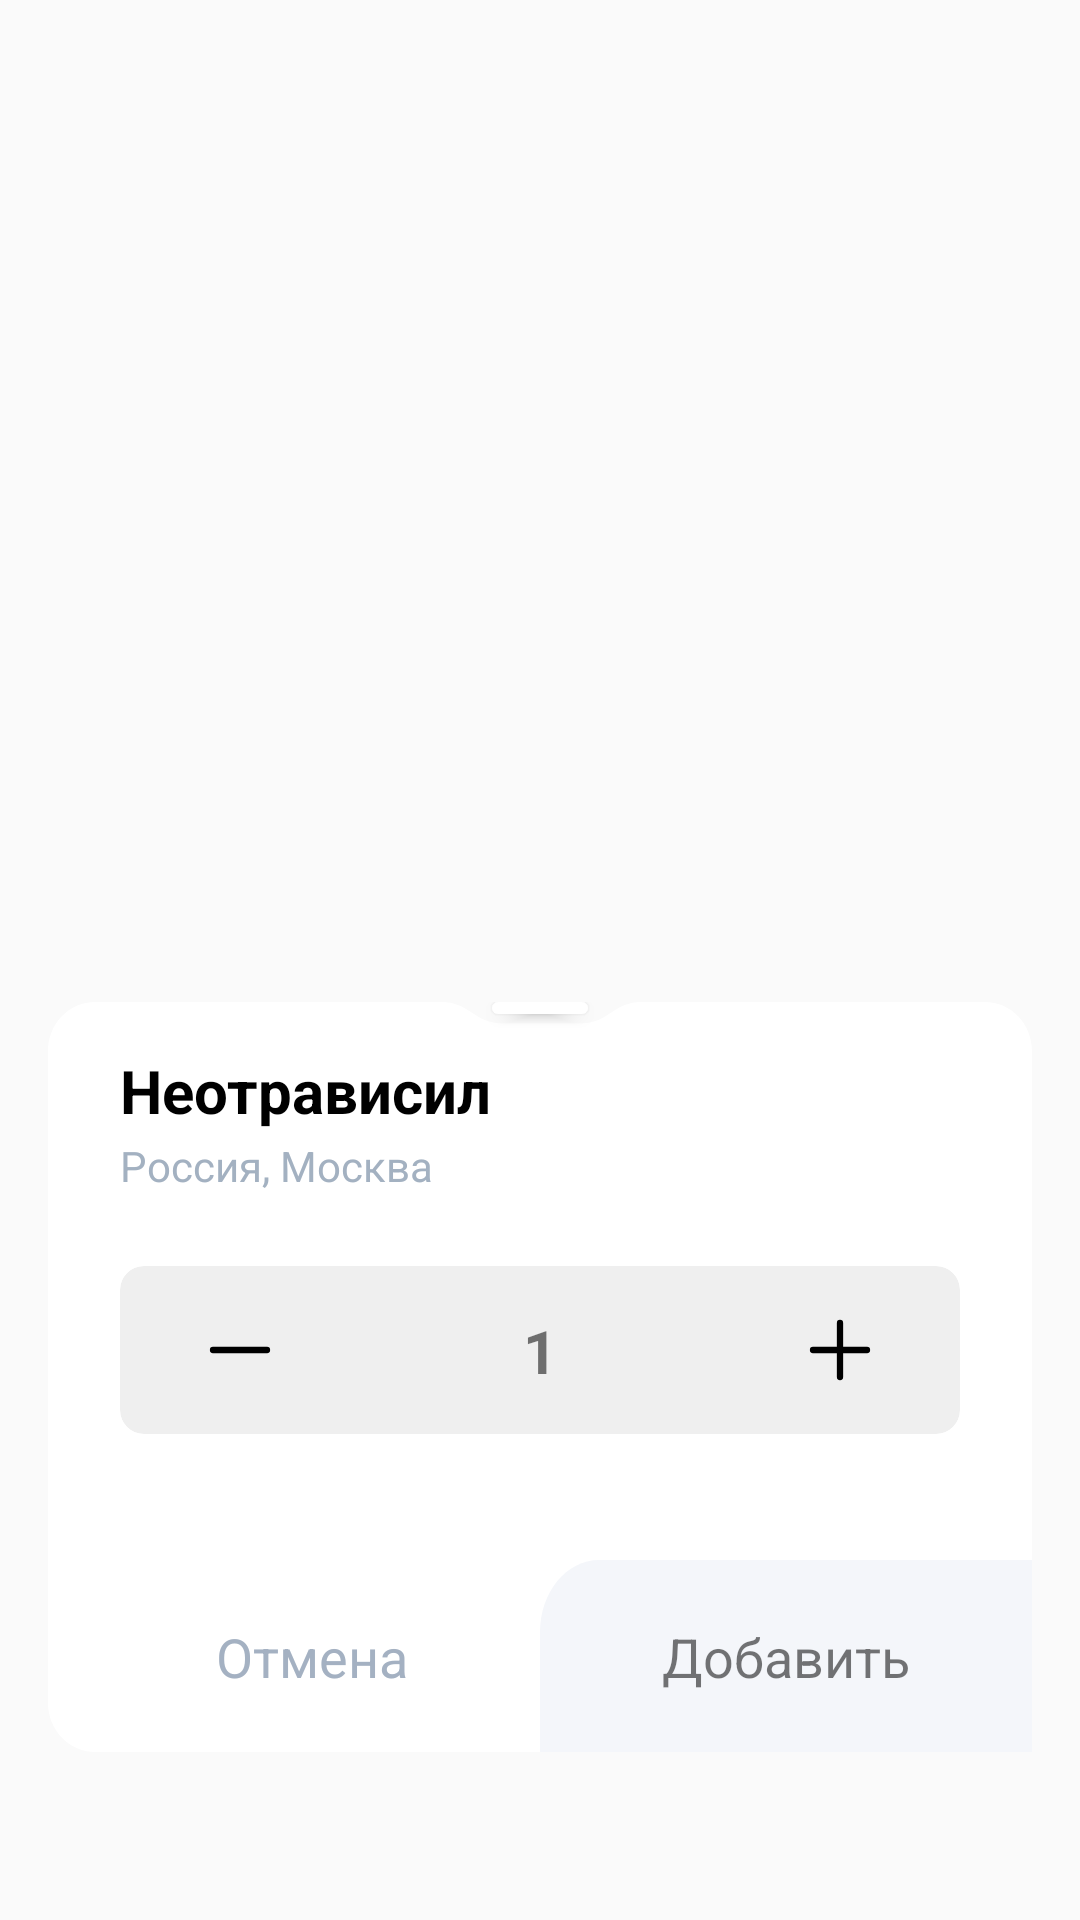

Named icons in this screenshot (1080 x 1920) and their centers, [x,y]:
plus: [840,1350]
